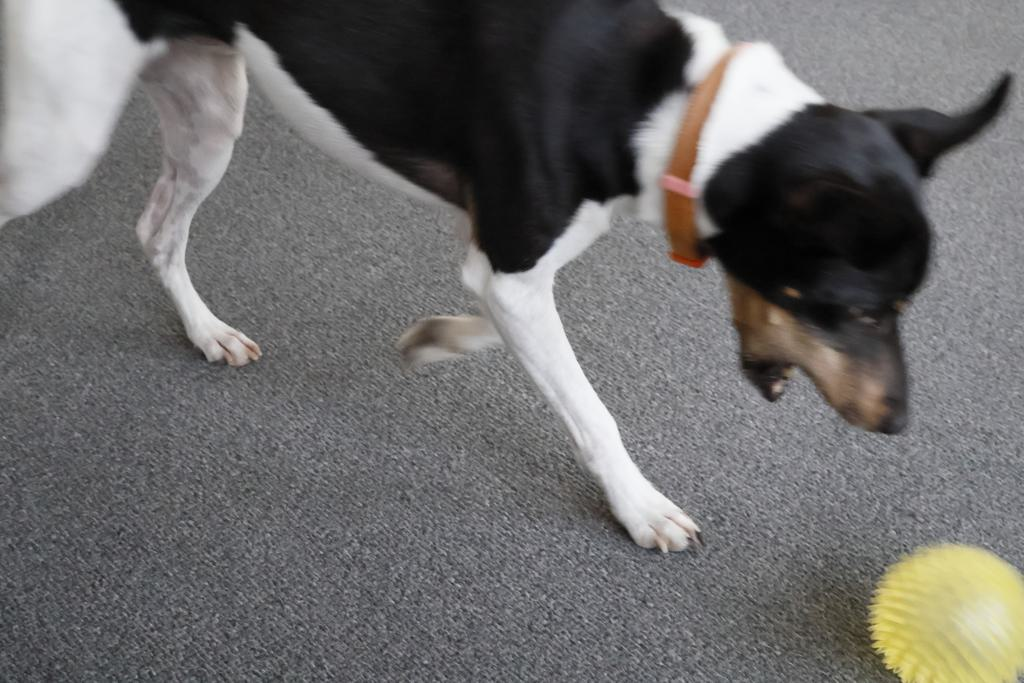Dog: (0, 0, 1018, 563)
